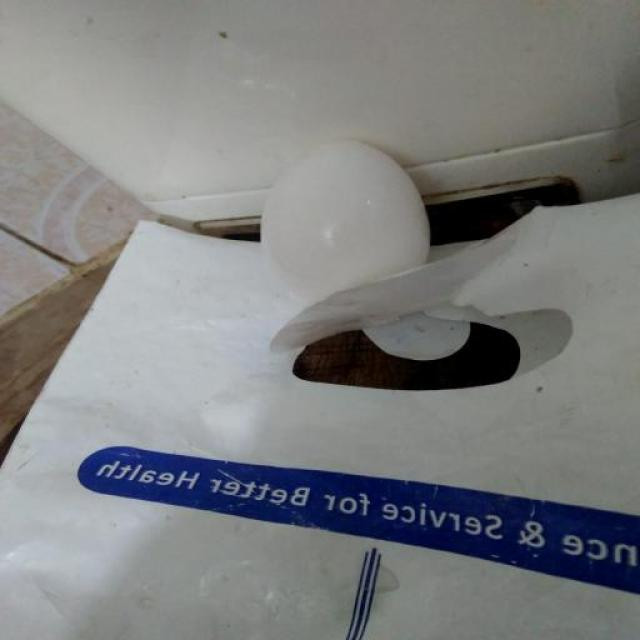telur: (251, 125, 436, 304)
